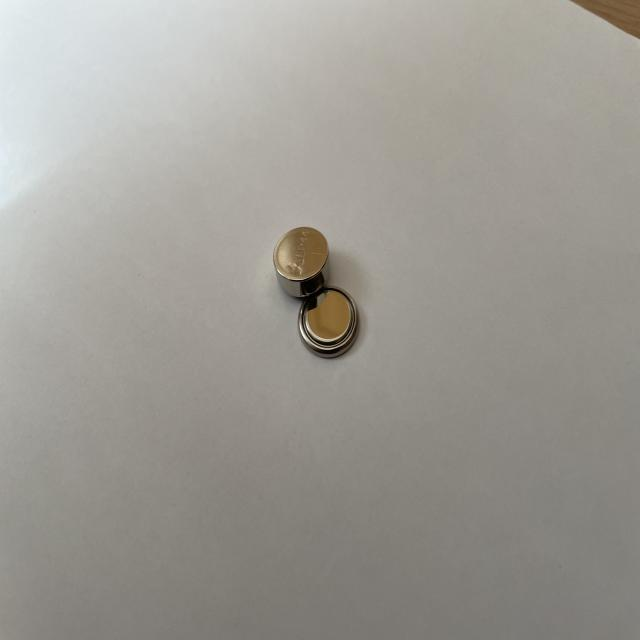COIN: (298, 287, 362, 362), (273, 226, 331, 302)
